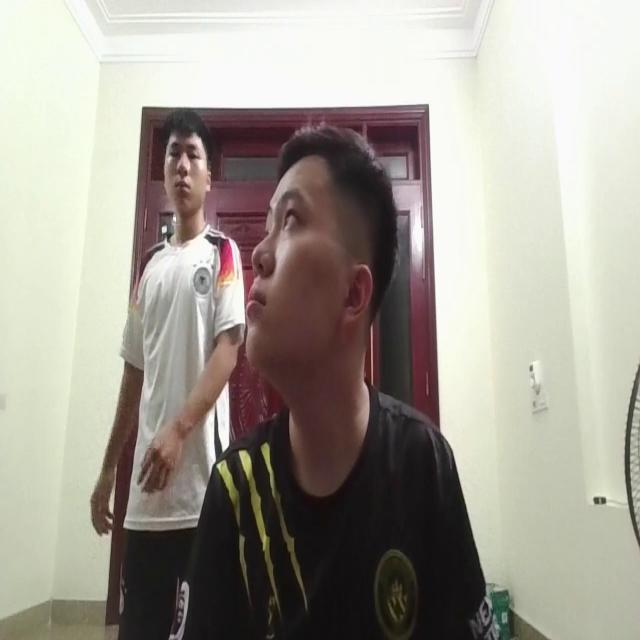extra_person: (93, 107, 237, 583)
student: (206, 123, 486, 640)
